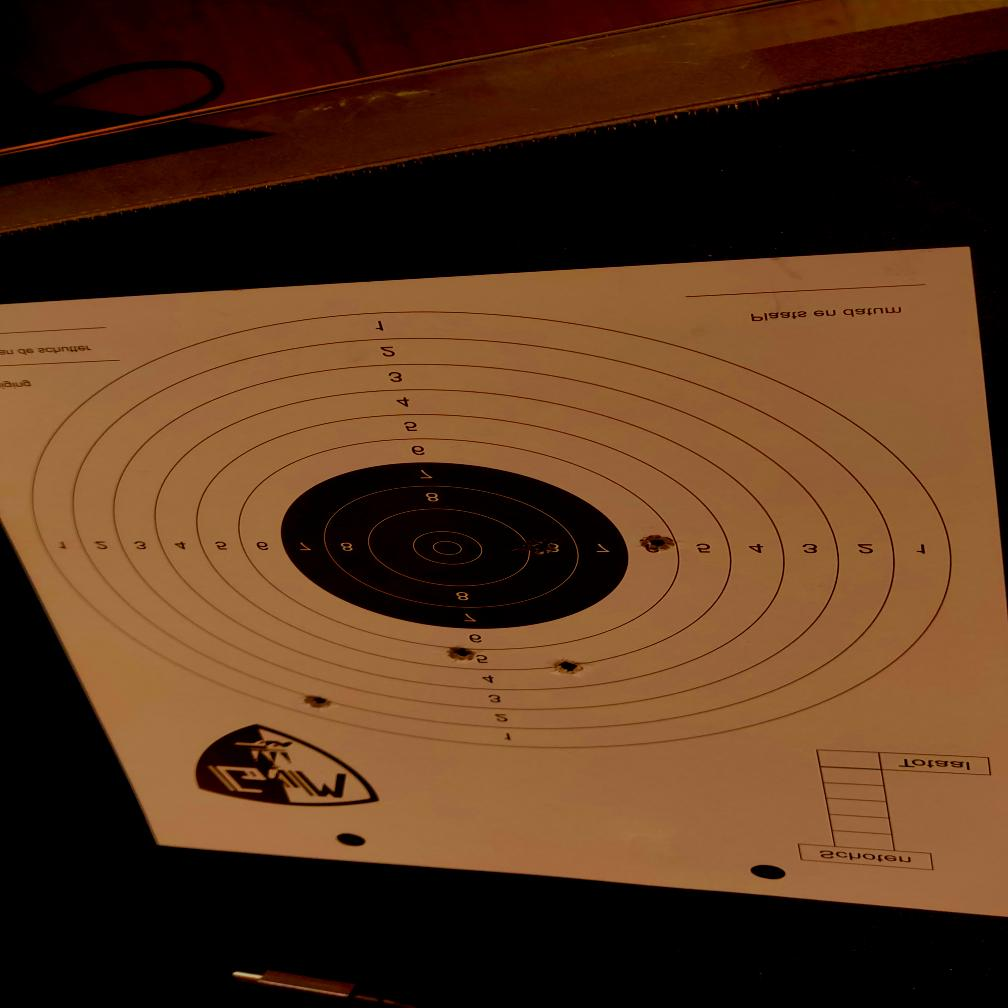2: (301, 694, 336, 710)
5: (547, 658, 593, 675)
6: (638, 534, 678, 553), (445, 646, 482, 662)
9: (510, 537, 560, 556)
Target: (30, 309, 954, 750)
black_contour: (280, 461, 632, 630)
